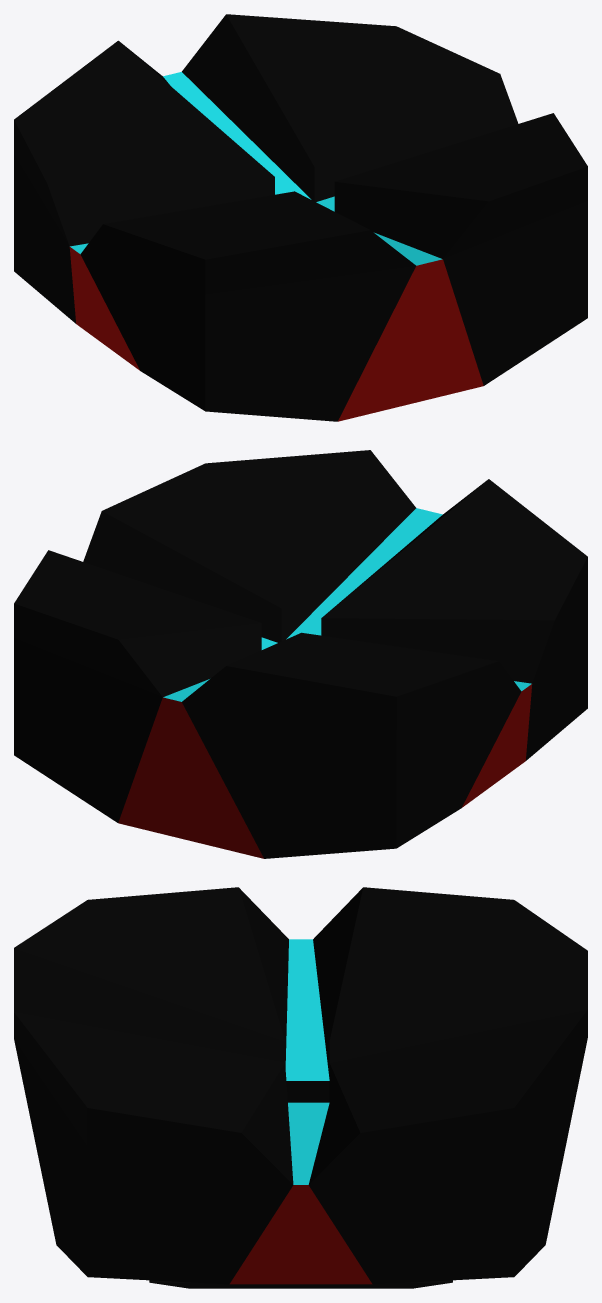
Rendered from Drone.fbx.
3 renders of one model, top to bottom at view 1: azimuth 30°, elevation 25°; view 2: azimuth 150°, elevation 25°; view 3: azimuth 270°, elevation 25°, orthographic. The views are drawn at different scales.
Parts seen in each view (by area): view 1: Cube.015; view 2: Cube.015; view 3: Cube.015.
Boxes of the visible parts, bbox=[...] form: Cube.015: bbox=[14, 14, 587, 421]; Cube.015: bbox=[14, 450, 587, 858]; Cube.015: bbox=[14, 887, 587, 1288].
Size of the model in its own units: 176 by 84.93 by 173.
